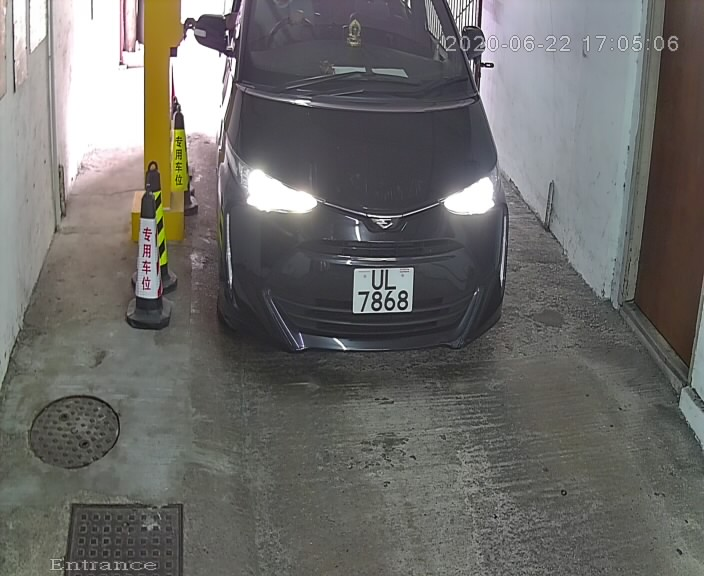privatecar: (186, 1, 550, 361)
